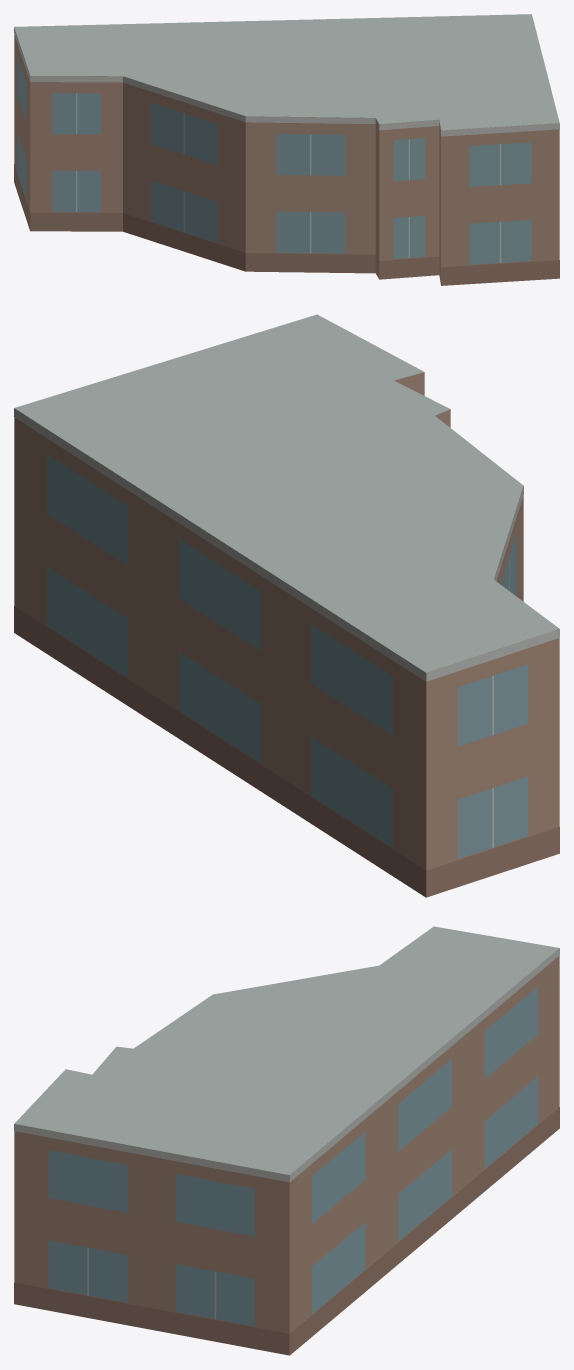
Rendered from survey-upis-32661325.glb.
The picture shows the model from 3 angles, top to bottom: view 1: azimuth 30°, elevation 25°; view 2: azimuth 150°, elevation 25°; view 3: azimuth 270°, elevation 25°; orthographic projection. The views are drawn at different scales.
Visible parts, largest first — view 1: survey-upis-32661325.tmp; view 2: survey-upis-32661325.tmp; view 3: survey-upis-32661325.tmp.
Part boxes in pixels (left/top/right/bottom): survey-upis-32661325.tmp: left=14, top=14, right=559, bottom=285; survey-upis-32661325.tmp: left=14, top=314, right=559, bottom=897; survey-upis-32661325.tmp: left=14, top=926, right=559, bottom=1355.
Size of the model in its own units: 18.06 by 6.1 by 16.74.
